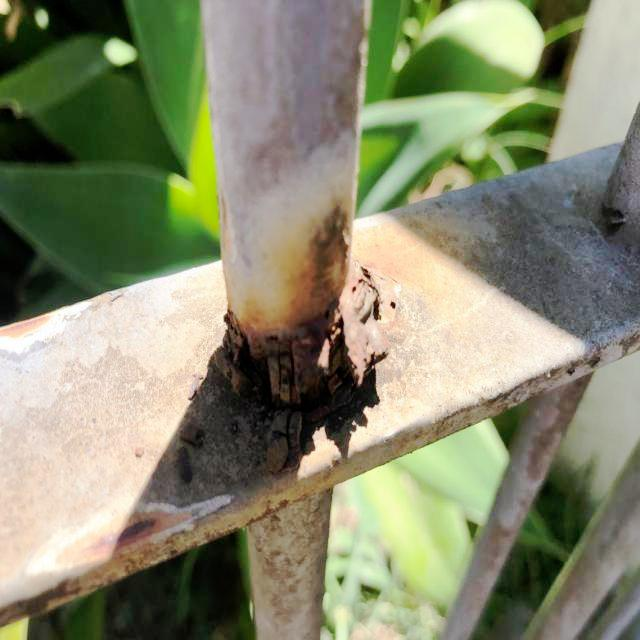Corrosion: (208, 192, 406, 475), (59, 509, 190, 564), (0, 310, 56, 341)
